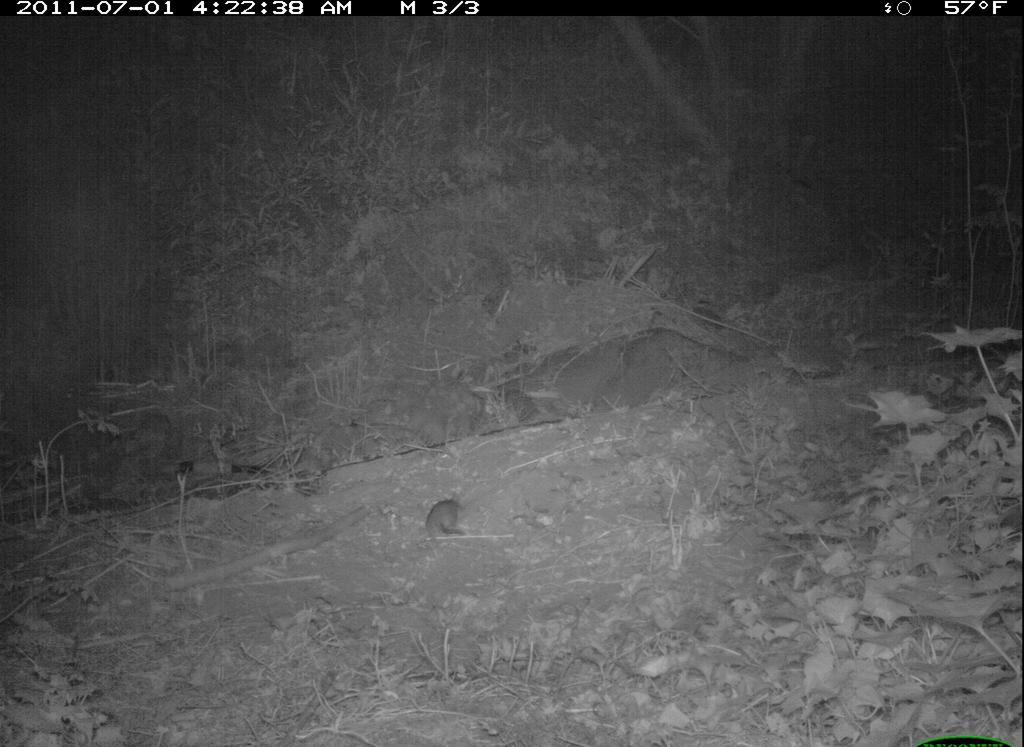rodent: (406, 488, 475, 547)
